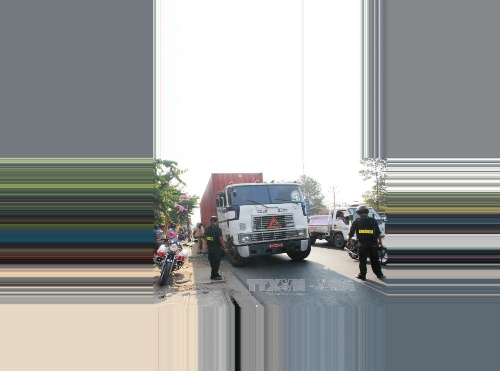plate: (268, 239, 284, 249)
